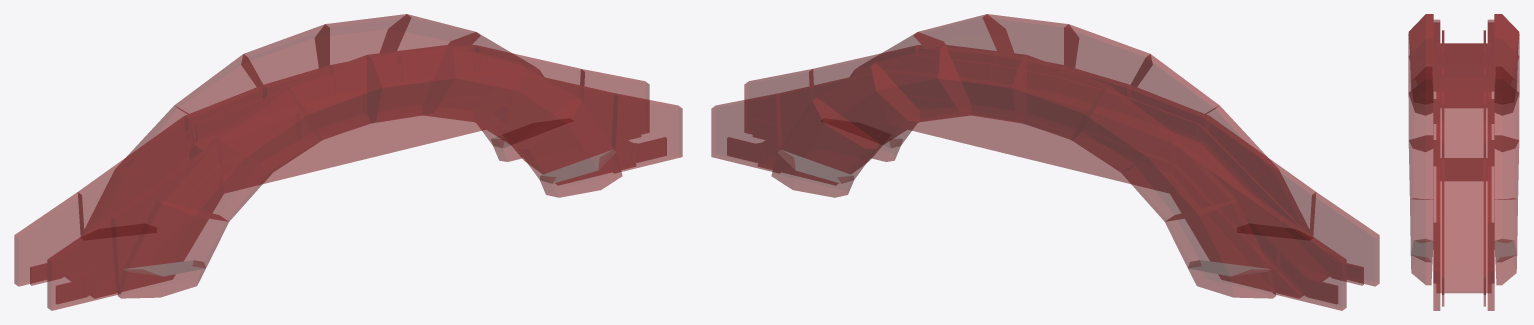
File: SM_Prop_Gantry_04_Collision.fbx
3 views of the same model, side by side, from view 1: azimuth 30°, elevation 25°; view 2: azimuth 150°, elevation 25°; view 3: azimuth 270°, elevation 25° (orthographic). The views are drawn at different scales.
Visible parts, largest first — view 1: SM_Prop_Gantry_04_Collision; view 2: SM_Prop_Gantry_04_Collision; view 3: SM_Prop_Gantry_04_Collision.
Part boxes in pixels (box(x1,y1,x2,y2)): SM_Prop_Gantry_04_Collision: box(14, 14, 682, 310); SM_Prop_Gantry_04_Collision: box(711, 14, 1379, 310); SM_Prop_Gantry_04_Collision: box(1408, 14, 1519, 310).
Size of the model in its own units: 3843 by 1042 by 716.
